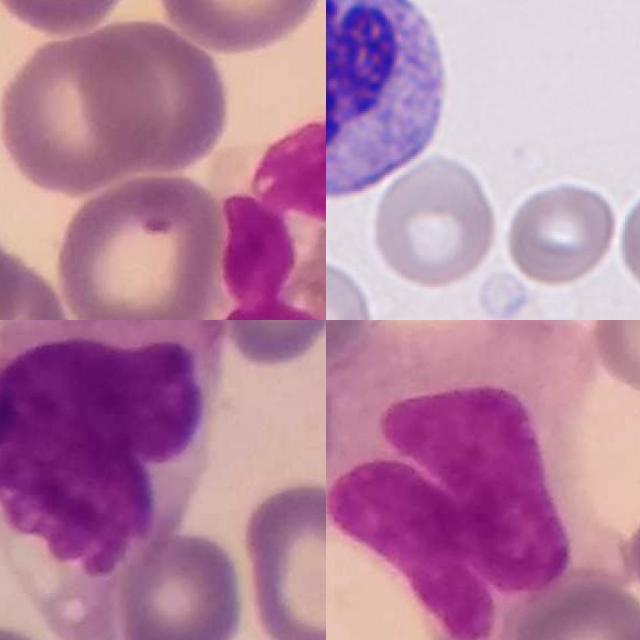Eosinophil: (202, 111, 326, 320)
Lymphocyte: (326, 0, 461, 210)
Monocyte: (326, 320, 634, 640), (0, 320, 219, 640)
RBC: (368, 149, 503, 293), (501, 177, 620, 289), (616, 182, 640, 303)
